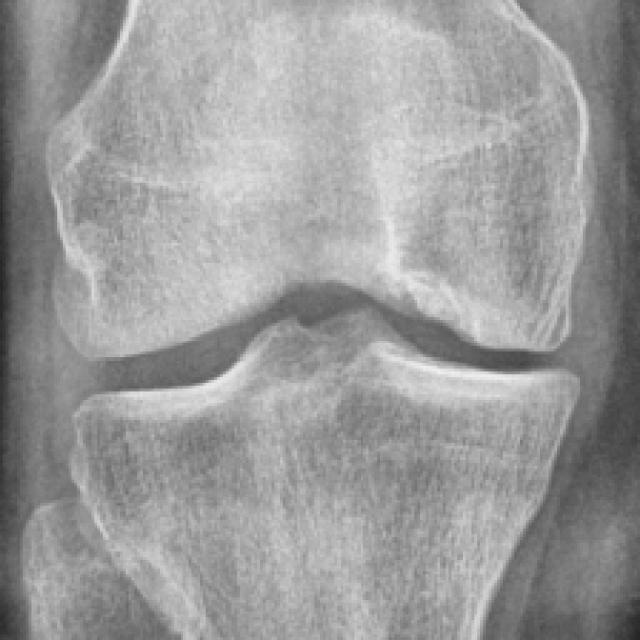femur: (51, 1, 583, 358)
tibia: (68, 308, 574, 637)
